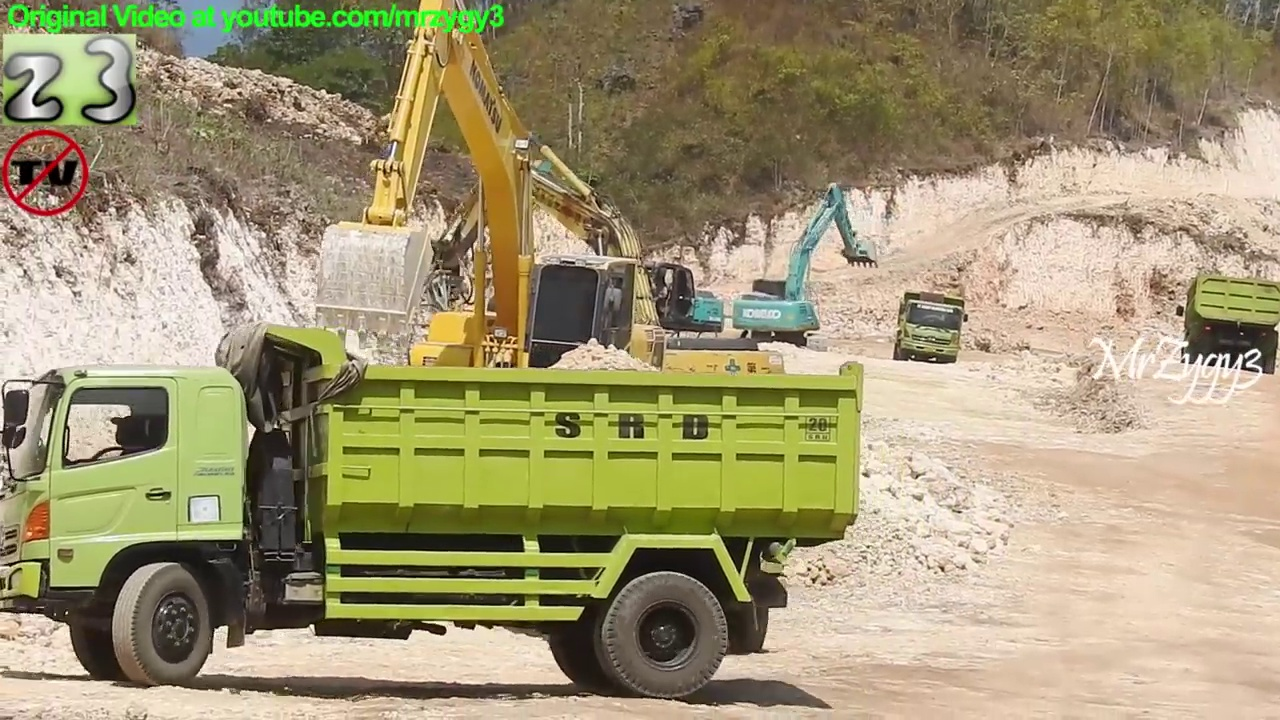excavator: (310, 3, 669, 499), (410, 128, 798, 481), (472, 152, 731, 386), (730, 179, 881, 357)
truck: (2, 317, 862, 700), (1174, 272, 1280, 381), (891, 289, 972, 368)
